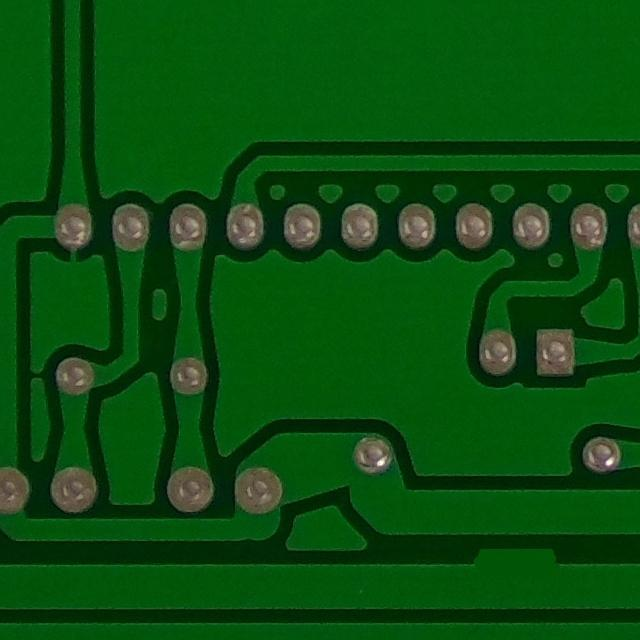spur: (456, 526, 581, 589)
